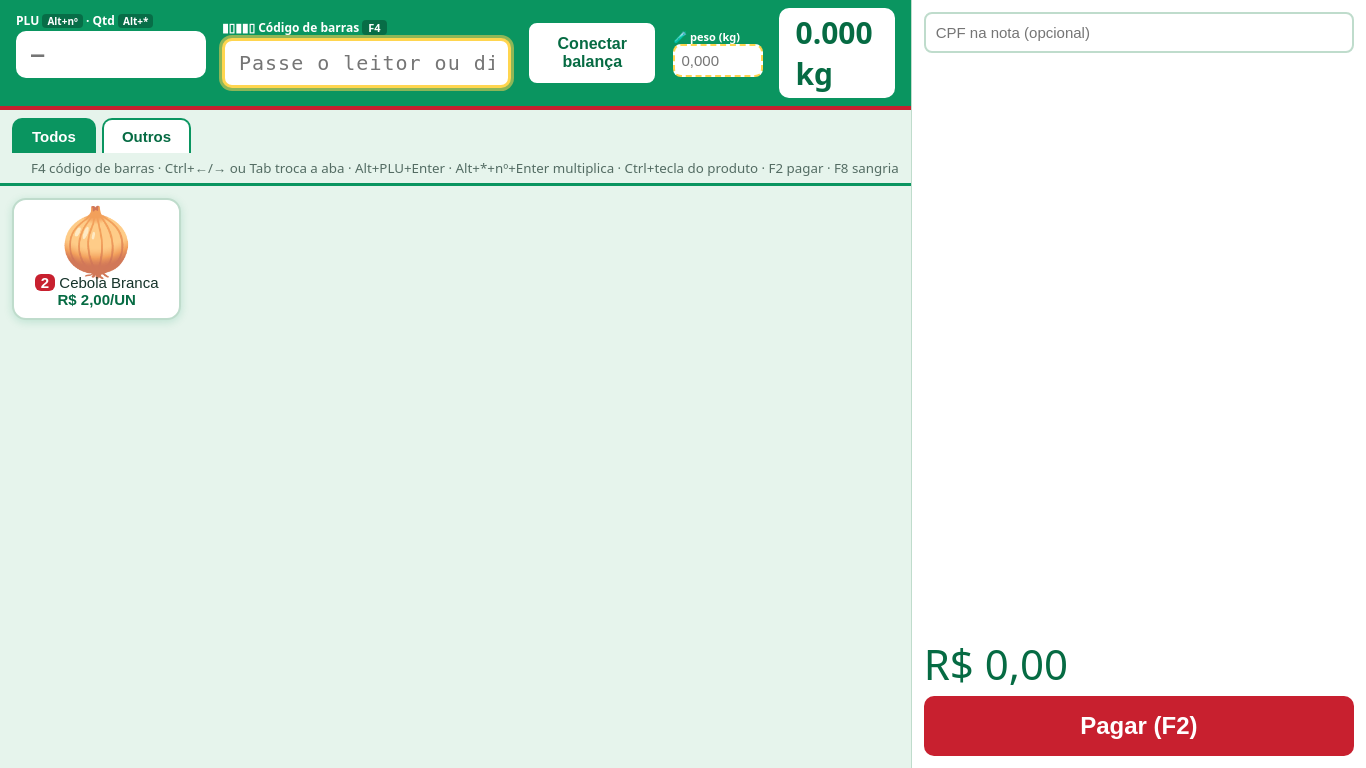
PDV: cliente sem dívida não recebe alerta; CPF sem cadastro também não
In the field named "CPF na nota": (1139, 32) x1=924 y1=12 x2=1354 y2=53, type "52998224725"
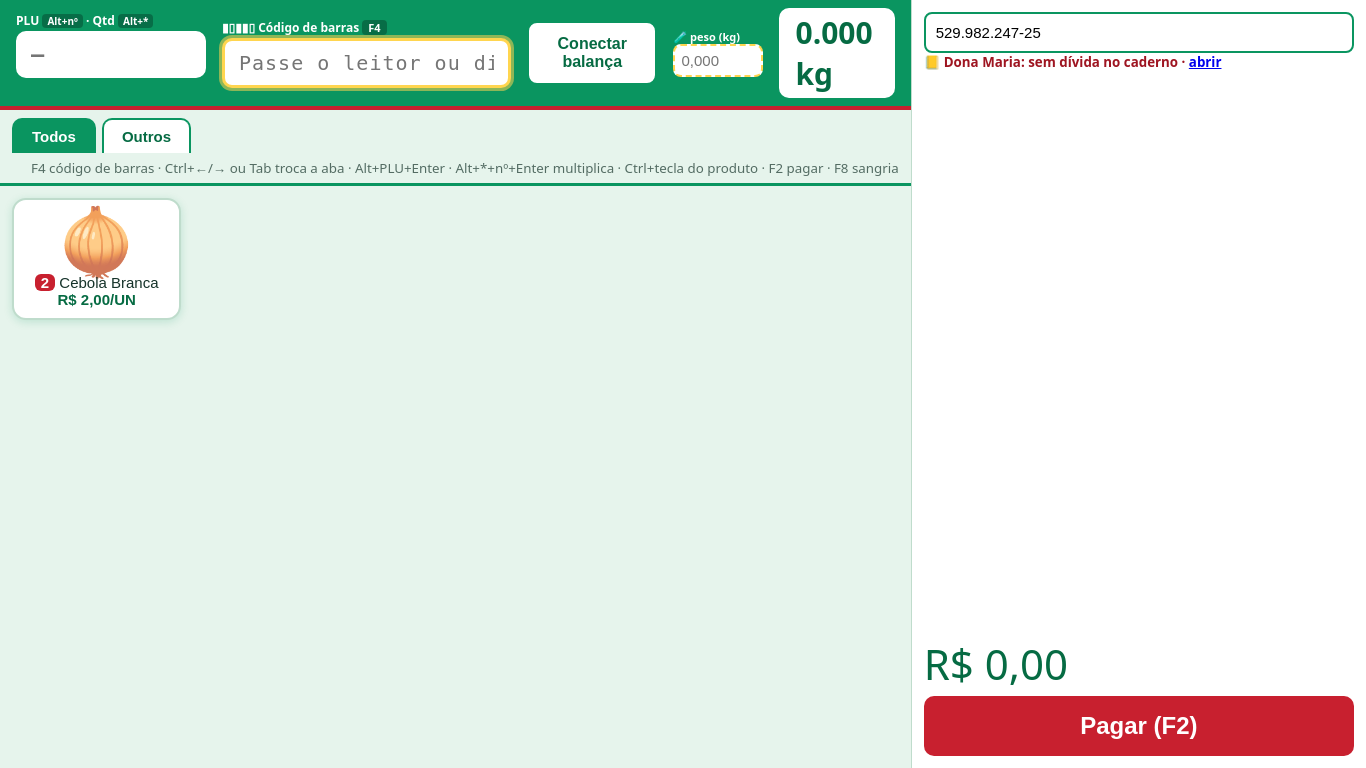
Result: the text "sem dívida no caderno" is shown at x1=1021 y1=53 x2=1189 y2=71
